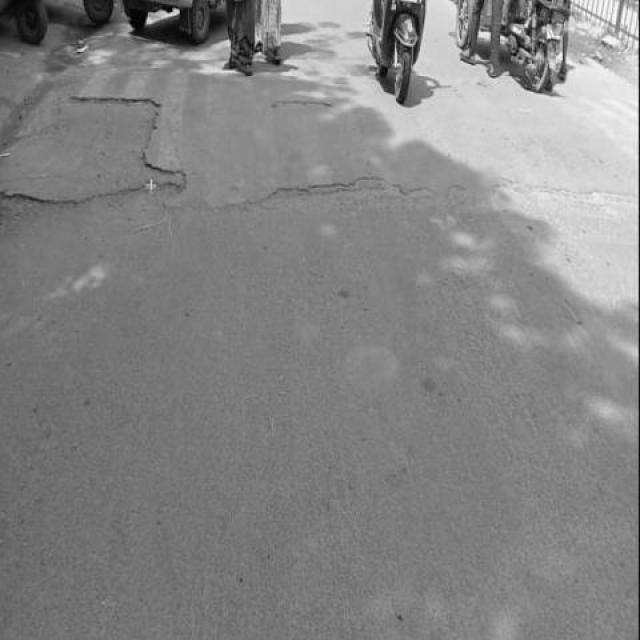Pothole: (22, 91, 208, 208), (225, 173, 633, 214), (268, 94, 336, 120)
Speed Bump: (1, 64, 639, 215)
